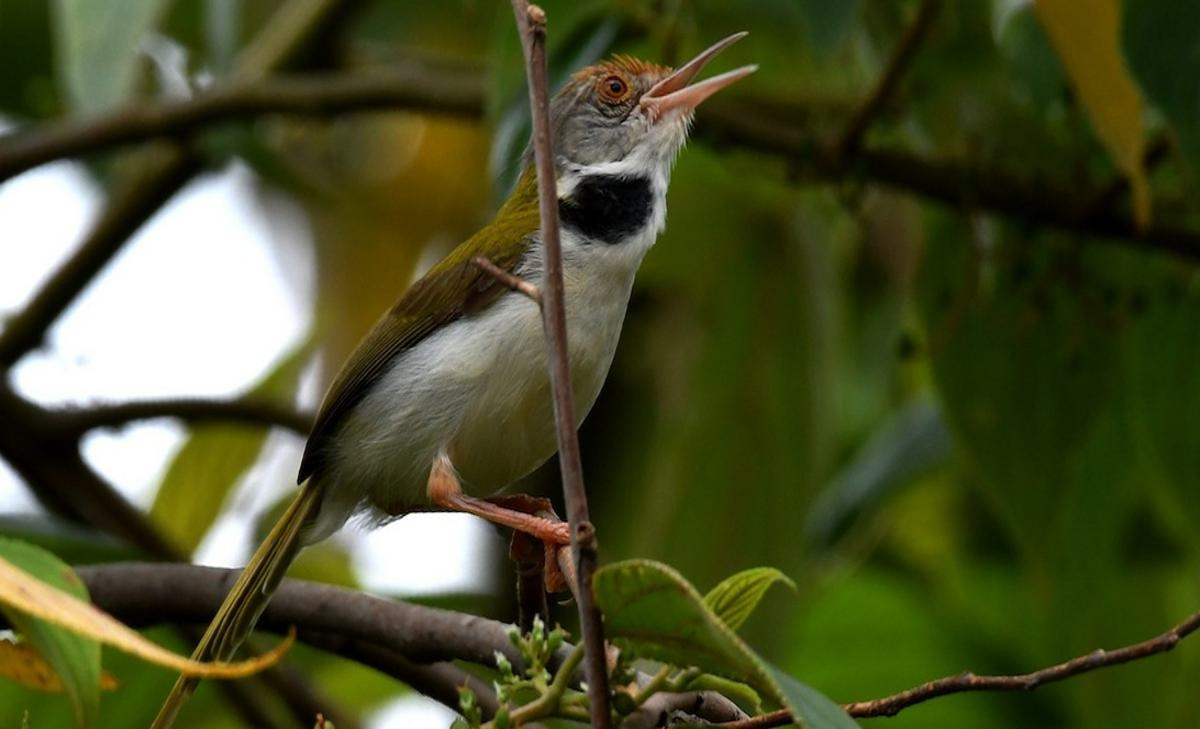tailorbird: (179, 16, 775, 670)
